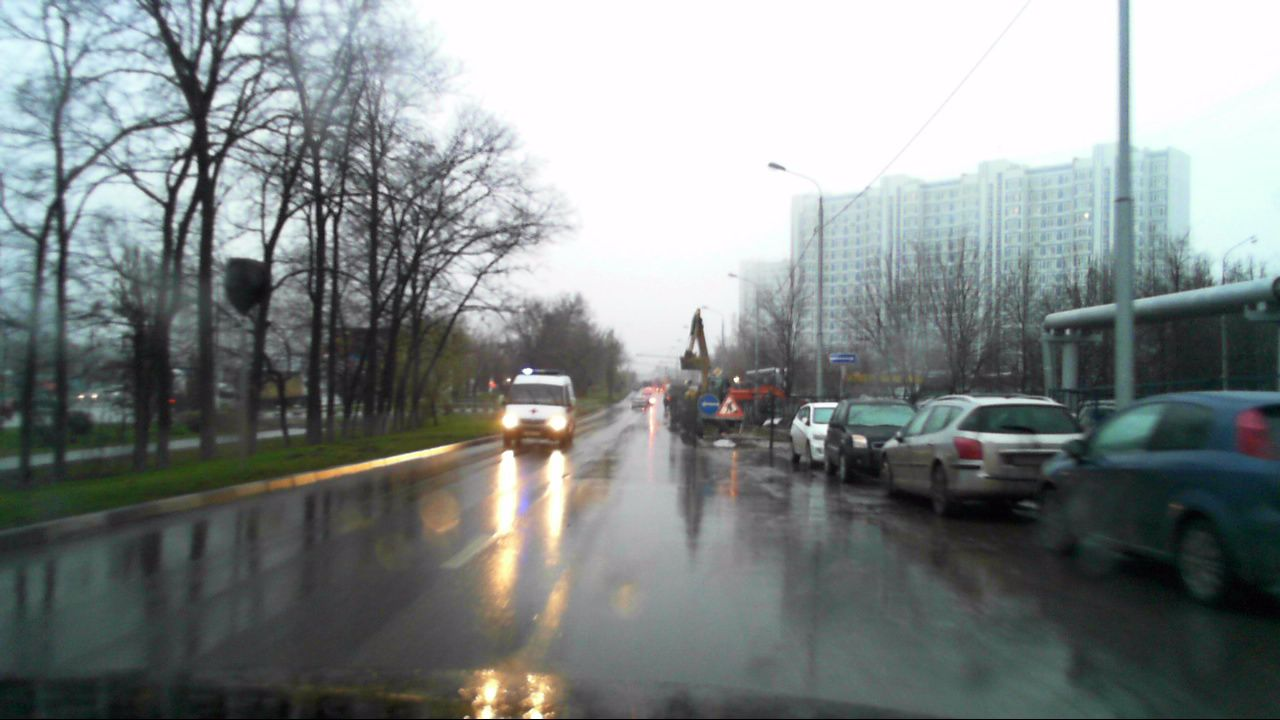One-Way Traffic: (828, 353, 858, 364)
Turn Left: (698, 394, 720, 414)
